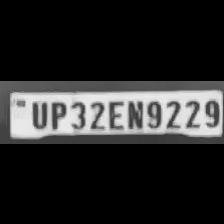2: (86, 97, 106, 129), (180, 96, 200, 128), (163, 96, 181, 128)
3: (66, 97, 86, 128)
9: (201, 96, 221, 128), (142, 97, 162, 127)
E: (104, 97, 124, 128)
N: (124, 97, 144, 128)
P: (47, 98, 67, 128)
U: (28, 98, 48, 128)
